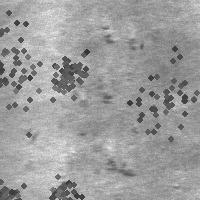rolled-in_scale: (109, 38, 200, 152), (59, 83, 136, 182), (0, 8, 60, 122), (41, 44, 97, 100), (35, 166, 85, 200), (95, 22, 145, 52), (0, 174, 25, 200)
